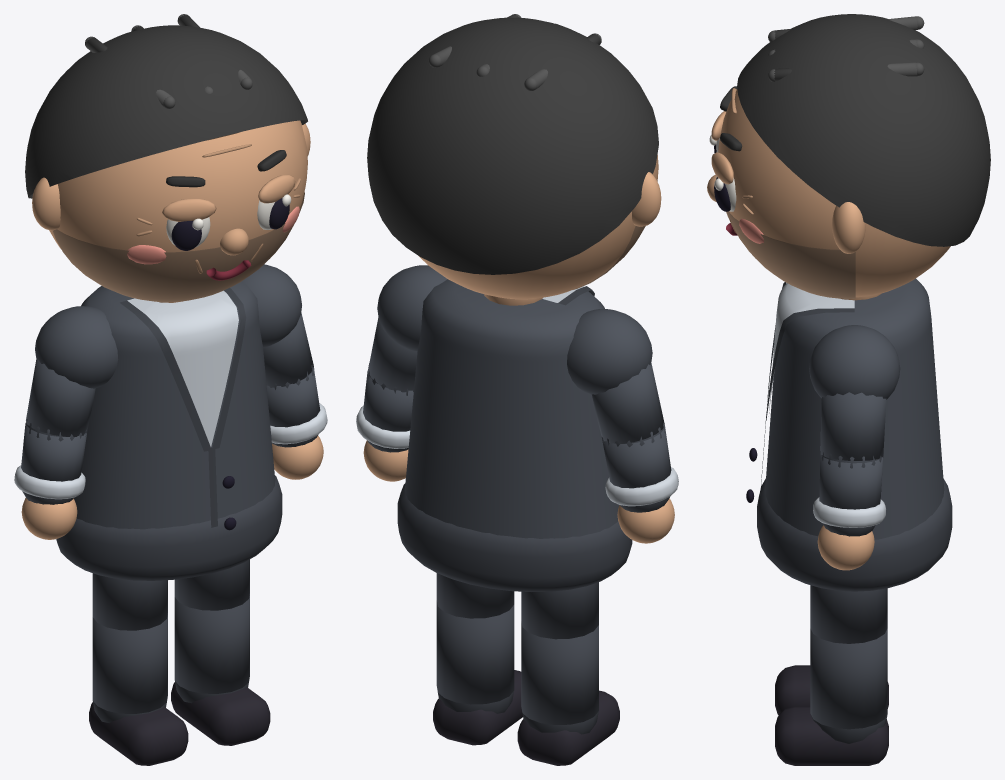
The model's file is ch_pasha_dad.fbx.
3 renders of one model, left to right at view 1: azimuth 30°, elevation 25°; view 2: azimuth 150°, elevation 25°; view 3: azimuth 270°, elevation 25°, orthographic. The views are drawn at different scales.
Parts seen in each view (by area): view 1: ch_pasha_dad; view 2: ch_pasha_dad; view 3: ch_pasha_dad.
Part boxes in pixels (box(x1,y1,x2,y2)): ch_pasha_dad: box(14, 14, 327, 765); ch_pasha_dad: box(356, 14, 678, 765); ch_pasha_dad: box(707, 14, 990, 765).
Size of the model in its own units: 0.729 by 1.59 by 0.5773.
